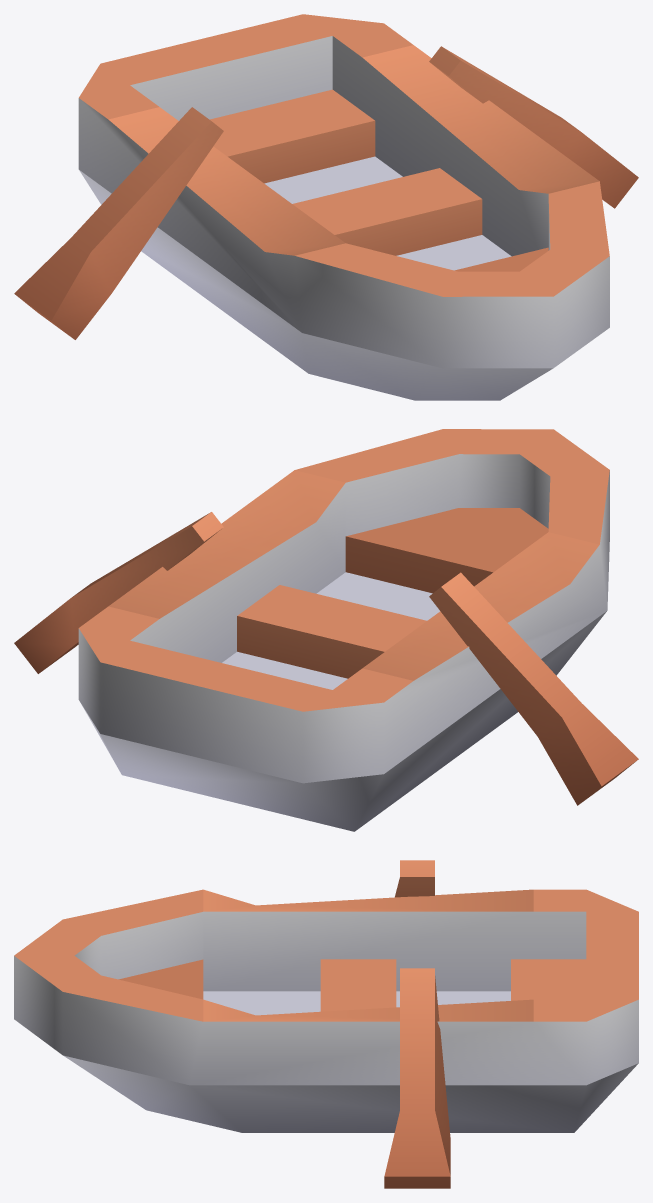
Rendered from cc0-boat-row-lod1.glb.
3 renders of one model, top to bottom at view 1: azimuth 30°, elevation 25°; view 2: azimuth 150°, elevation 25°; view 3: azimuth 270°, elevation 25°, orthographic. The views are drawn at different scales.
Visible parts, largest first — view 1: part_0; view 2: part_0; view 3: part_0.
Boxes of the visible parts, left/top/right/bottom form: part_0: left=14, top=14, right=638, bottom=400; part_0: left=14, top=429, right=638, bottom=831; part_0: left=14, top=860, right=638, bottom=1188.
Size of the model in its own units: 2.75 by 0.8477 by 2.85.
Materials: 1 (1 with a texture image).
